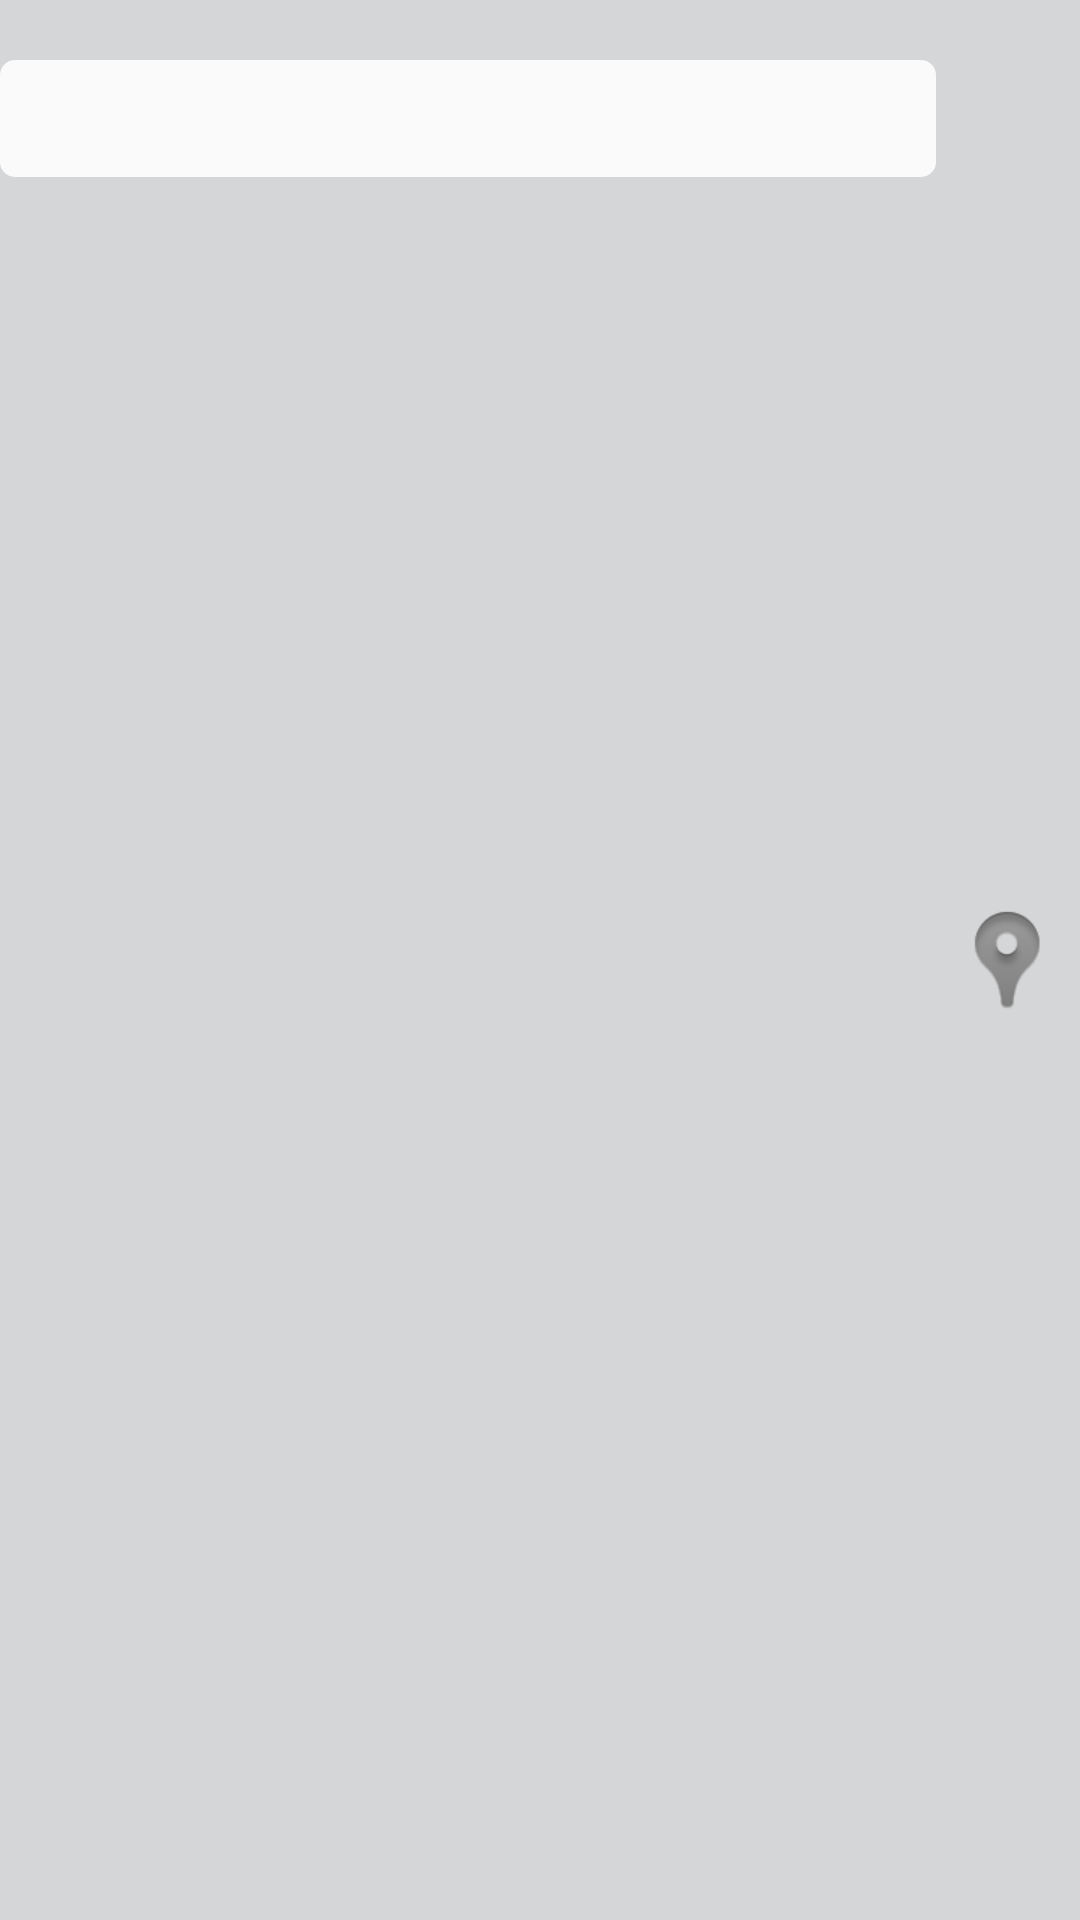

Icons on this 1080 x 1920 Android screen, each with its box as (x1, y1, x2, y2):
position: (975, 912, 1040, 1008)
